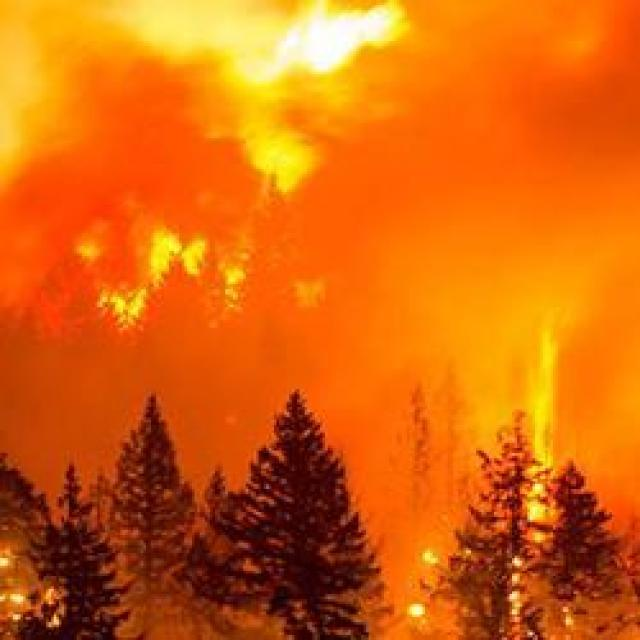Fire: (90, 216, 306, 342), (172, 0, 414, 74), (524, 331, 576, 572), (5, 554, 81, 632), (411, 550, 456, 627)
Smoke: (26, 13, 542, 156)
